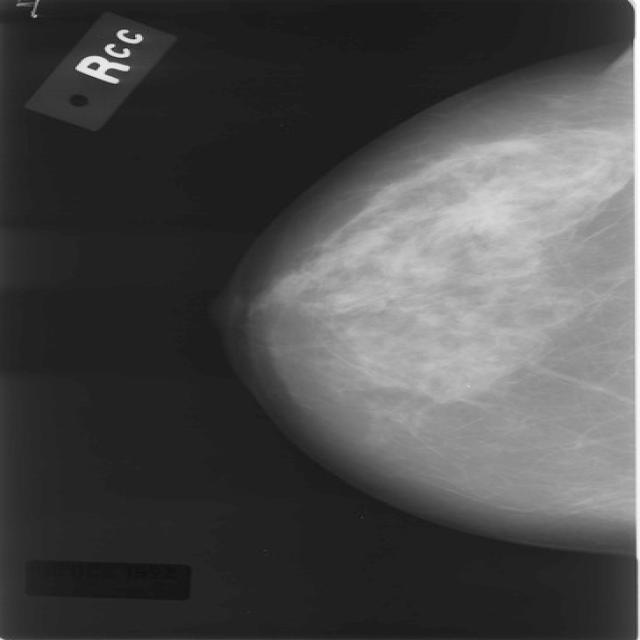tumour: (428, 188, 521, 235)
